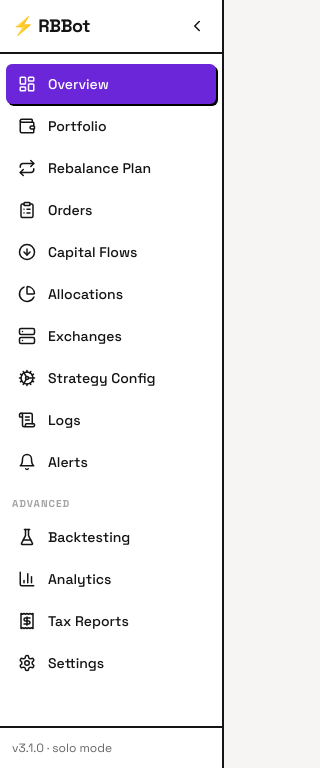
Scenario: AppSidebar › expands sidebar on second toggle click
Click the button: (197, 26) [184,13,210,39]
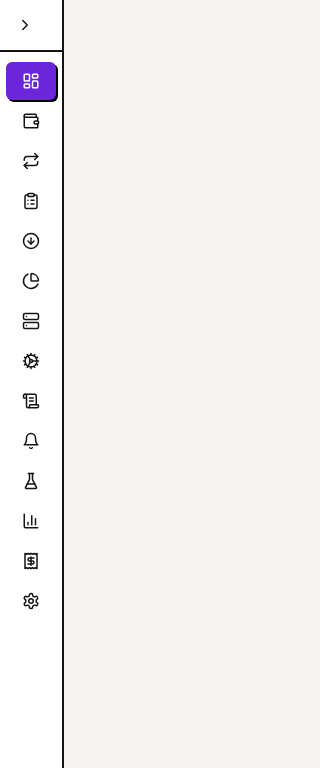
Click the button: (25, 25) [12,12,38,38]
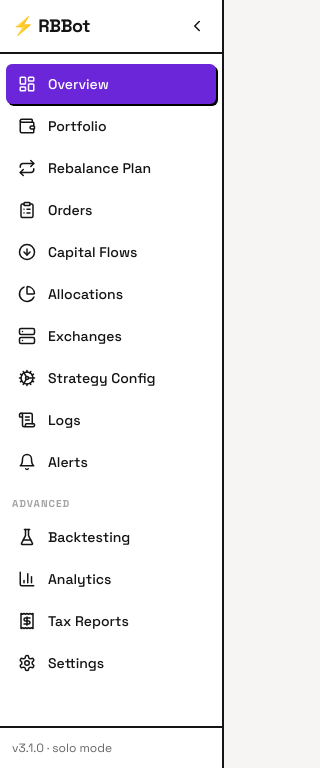
Result: the text "⚡ RBBot" is shown at [12,12,90,40]
